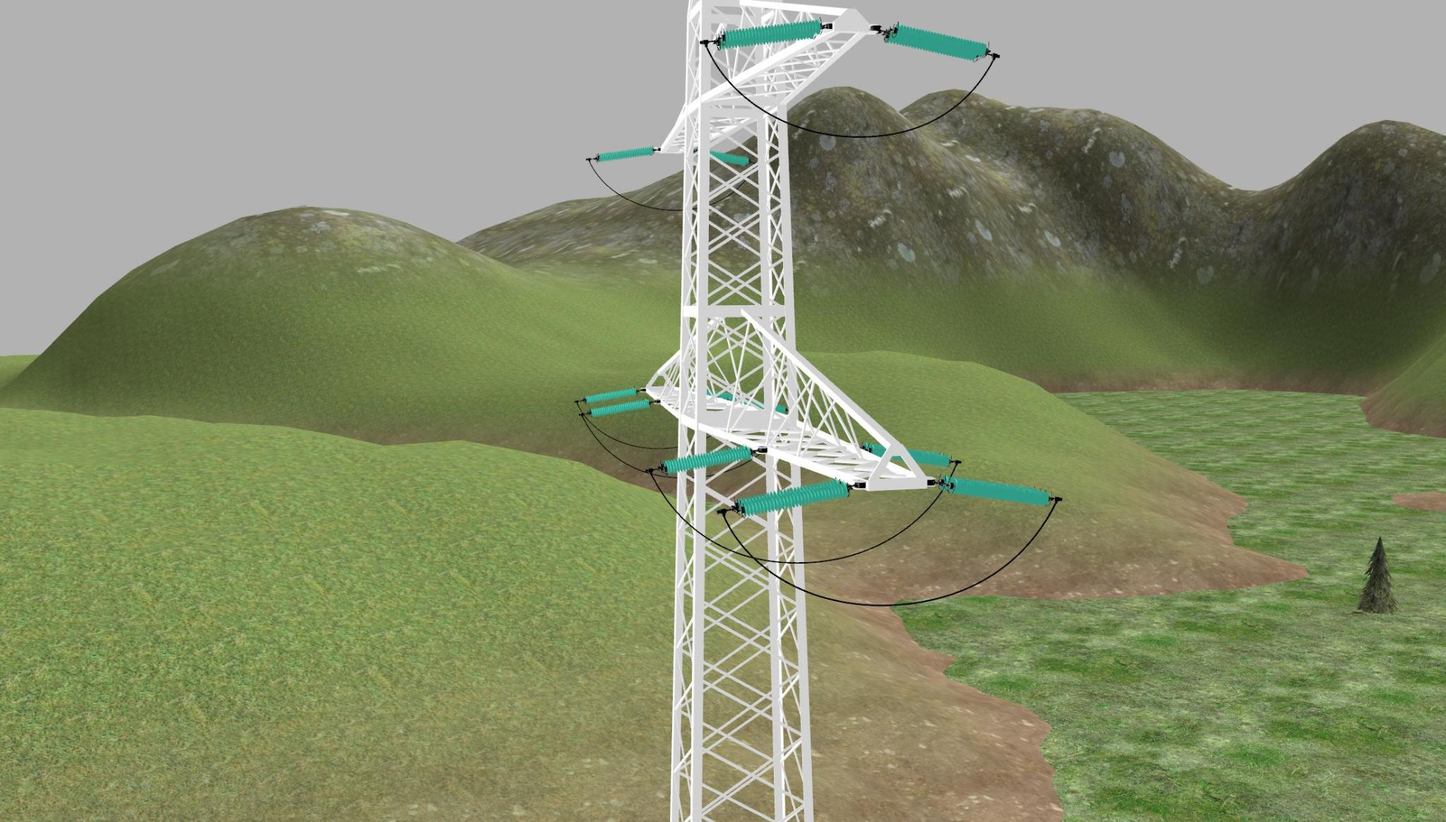tower: (640, 0, 930, 822)
